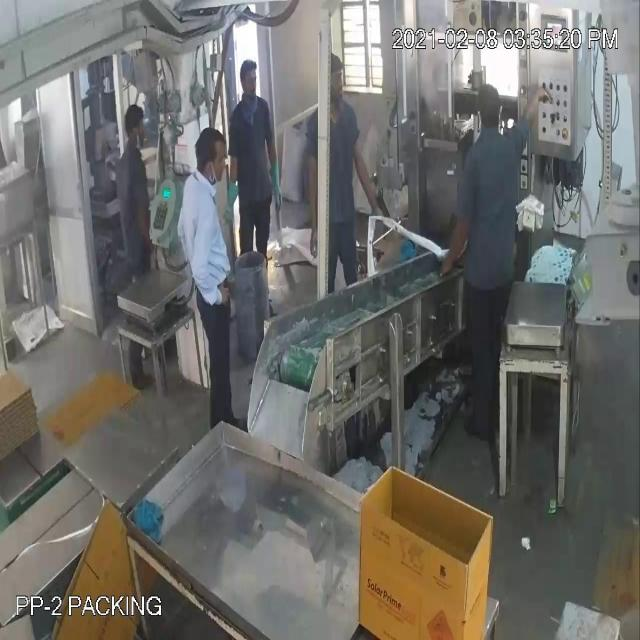No_Gloves: (18, 65, 538, 285)
